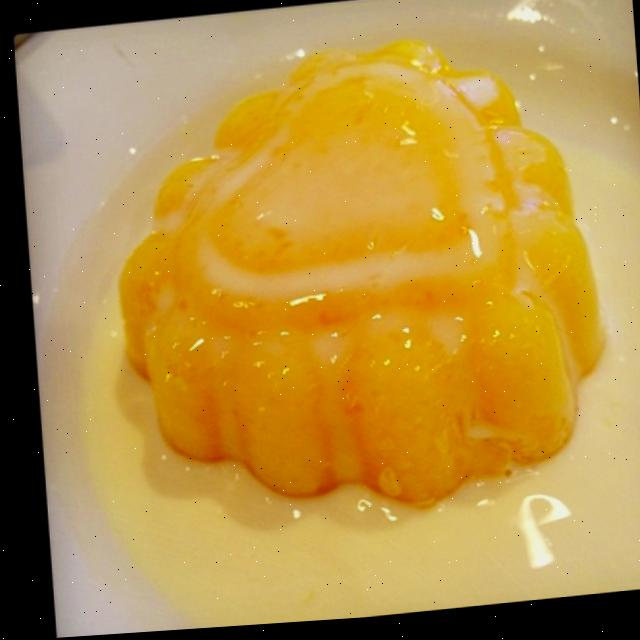蛋糕甜品: (73, 0, 622, 543)
